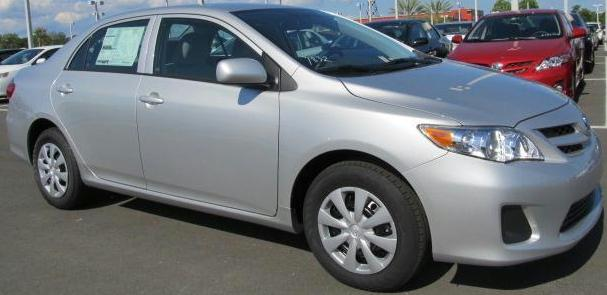front_view: (413, 91, 607, 277)
headlight: (410, 117, 554, 170)
side_glass: (71, 19, 283, 94)
